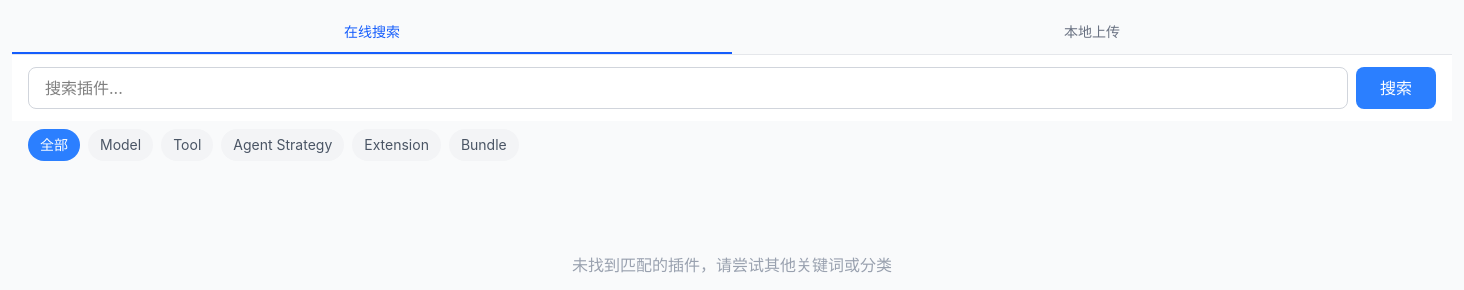
Test: SearchPanel › should show upload content when upload tab is active
Click the button with test id "tab-upload".
click(1092, 33)  # box [732, 12, 1452, 54]
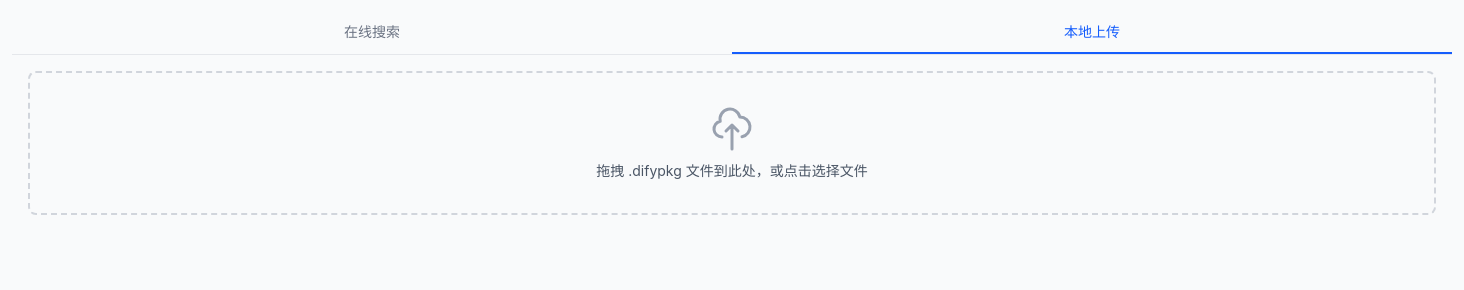
Expected: the element with test id "upload-content" is shown, [12, 55, 1452, 231]
